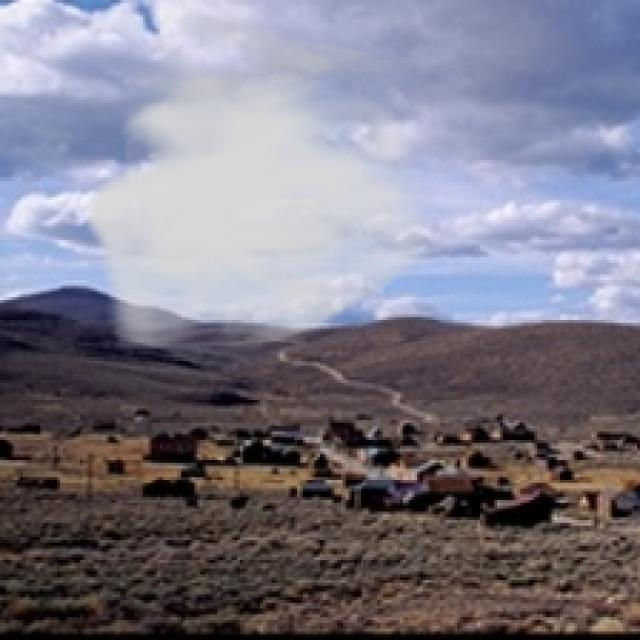Smoke: (83, 3, 440, 360)
